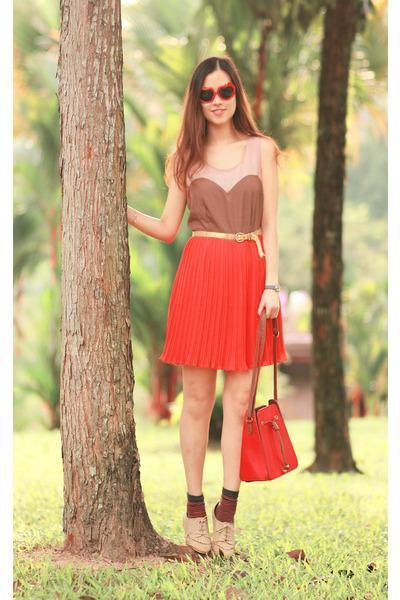bag: (239, 372, 297, 481)
shirt: (180, 175, 263, 239)
shoe: (186, 516, 239, 559)
skirt: (161, 236, 285, 371)
